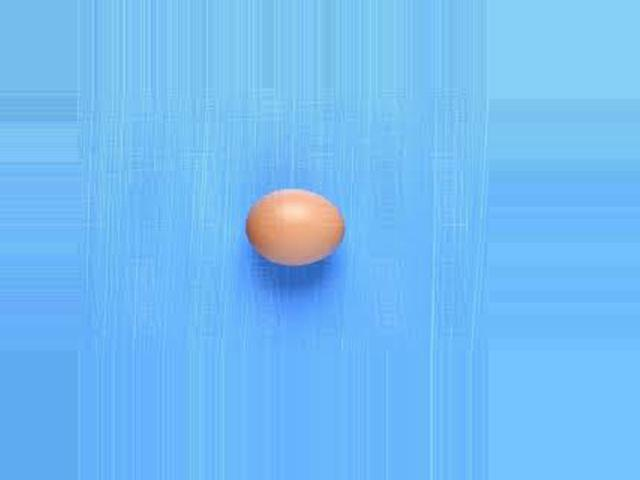egg: (246, 187, 343, 268)
